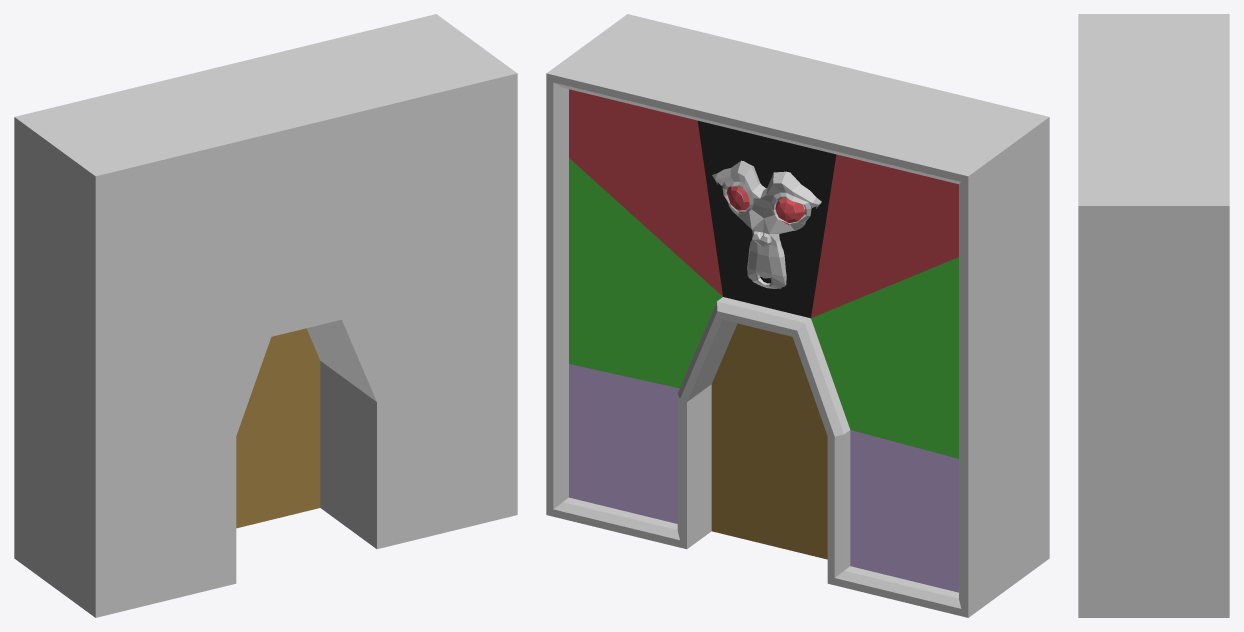
File: Gate.fbx
3 renders of one model, left to right at view 1: azimuth 30°, elevation 25°; view 2: azimuth 150°, elevation 25°; view 3: azimuth 270°, elevation 25°, orthographic. The views are drawn at different scales.
Parts seen in each view (by area): view 1: Cube.006; view 2: Cube.006; view 3: Cube.006.
Boxes of the visible parts, left/top/right/bottom form: Cube.006: left=14, top=14, right=517, bottom=617; Cube.006: left=546, top=14, right=1049, bottom=617; Cube.006: left=1078, top=14, right=1229, bottom=617.
Size of the model in its own units: 600 by 600 by 200.
